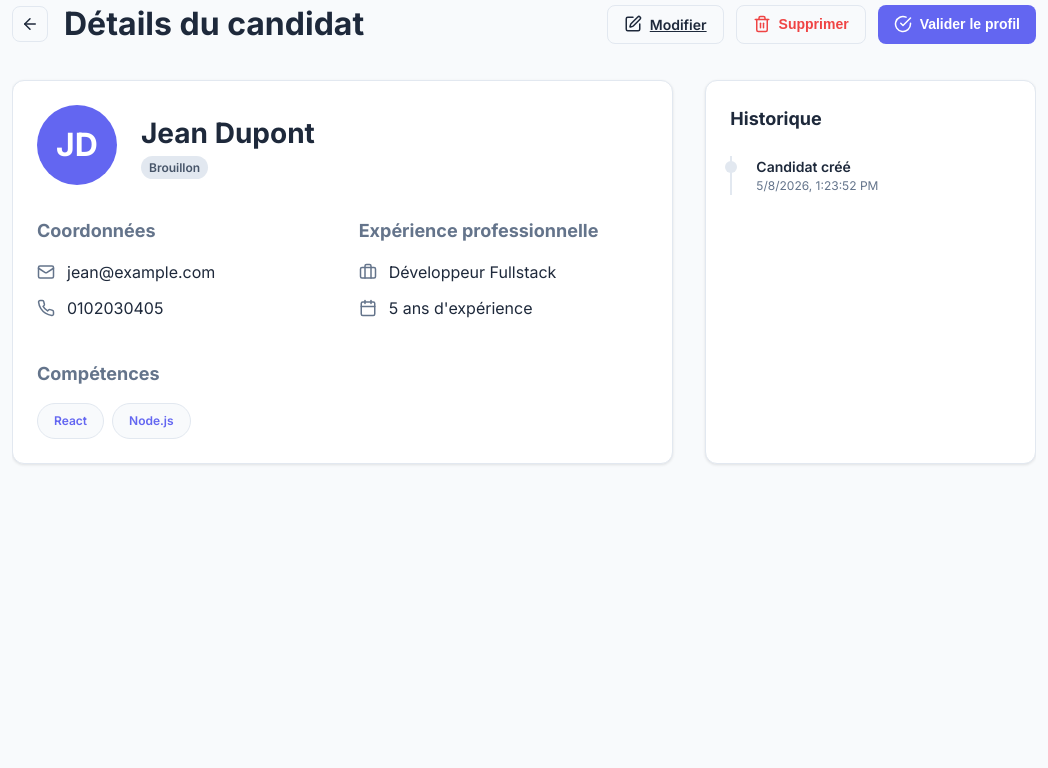
Test: CandidateDetailPage › shows error message on validation failure
Click the button "Valider le profil".
click(957, 24)  # box top-left (878, 4), bottom-right (1036, 44)
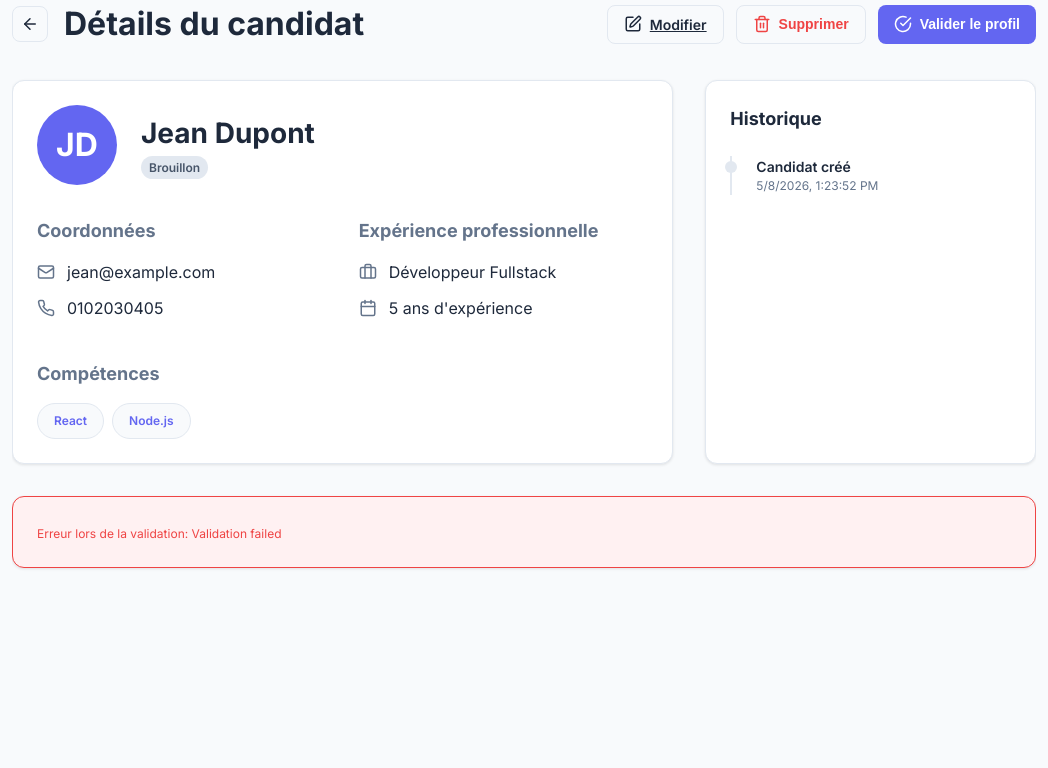
expect the text "Erreur lors de la validation: Validation failed" is shown: met, box top-left (37, 526), bottom-right (282, 541)
